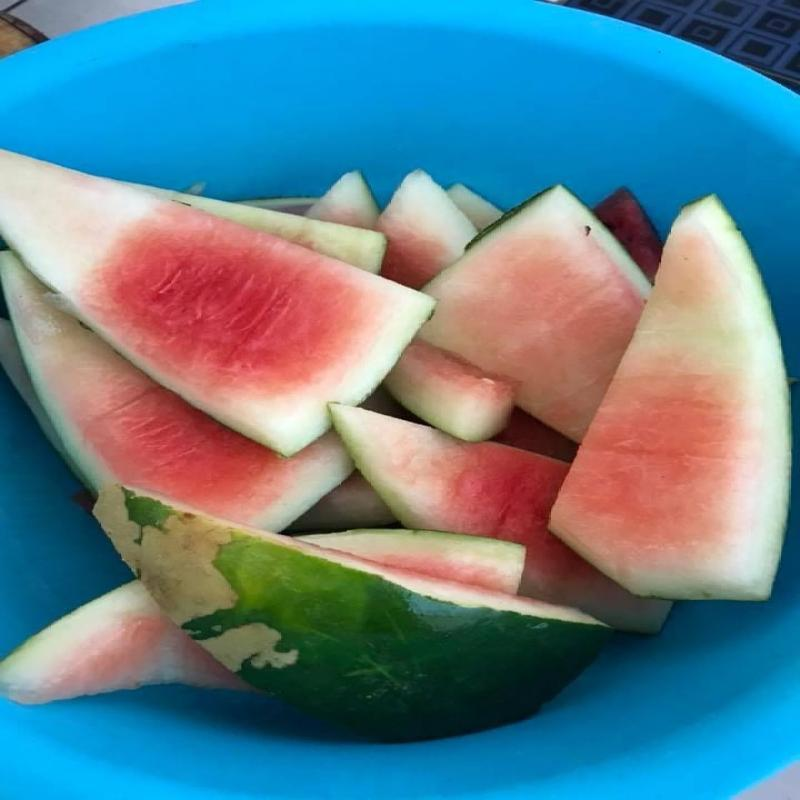fruit peels: (0, 149, 436, 459), (92, 486, 613, 745), (546, 193, 791, 604), (0, 250, 354, 534), (328, 407, 671, 632), (416, 184, 652, 443), (0, 581, 267, 707), (297, 529, 527, 596), (383, 340, 521, 443), (373, 168, 480, 291)
